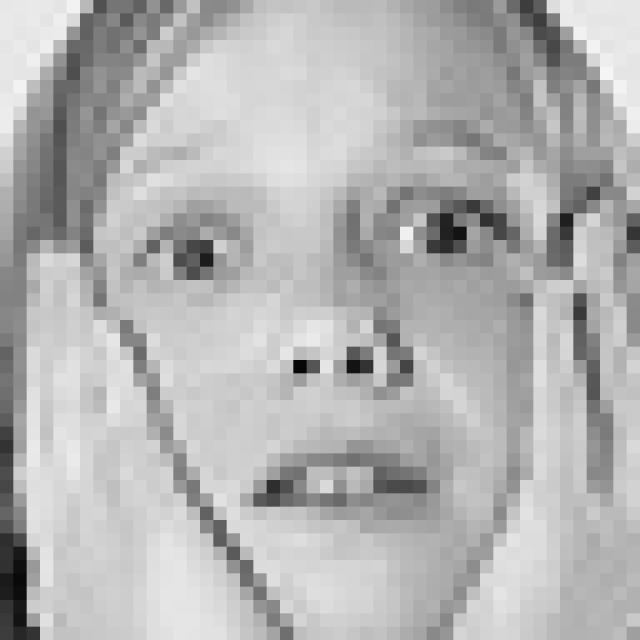fear: (116, 120, 539, 550)
